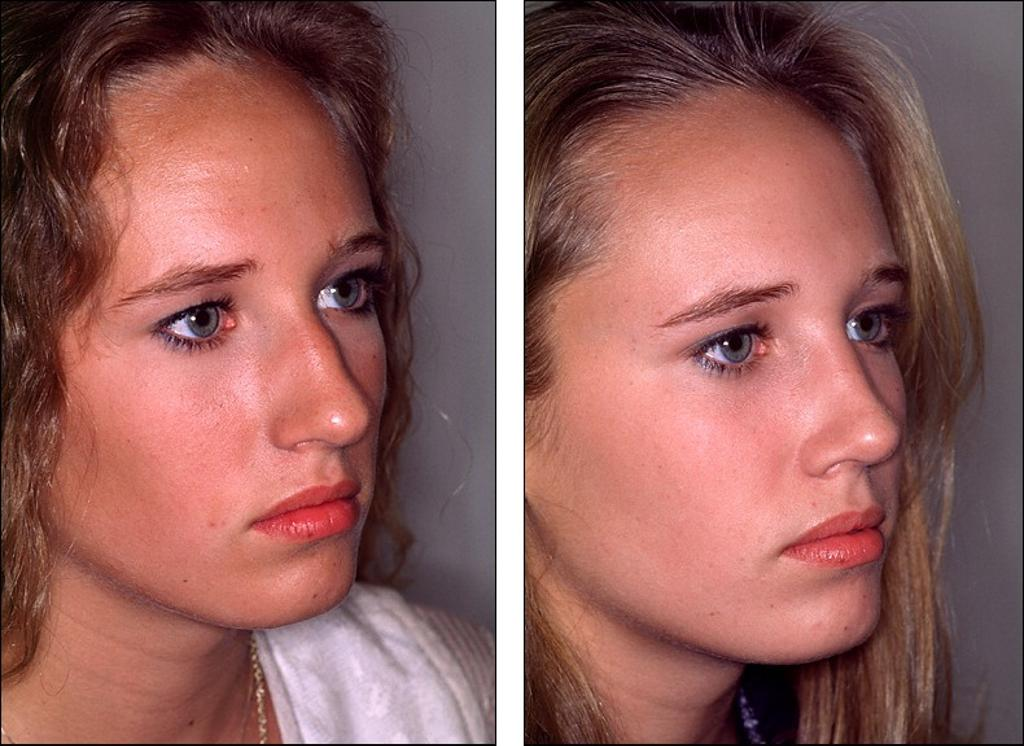face: (542, 108, 908, 662), (42, 84, 394, 634)
